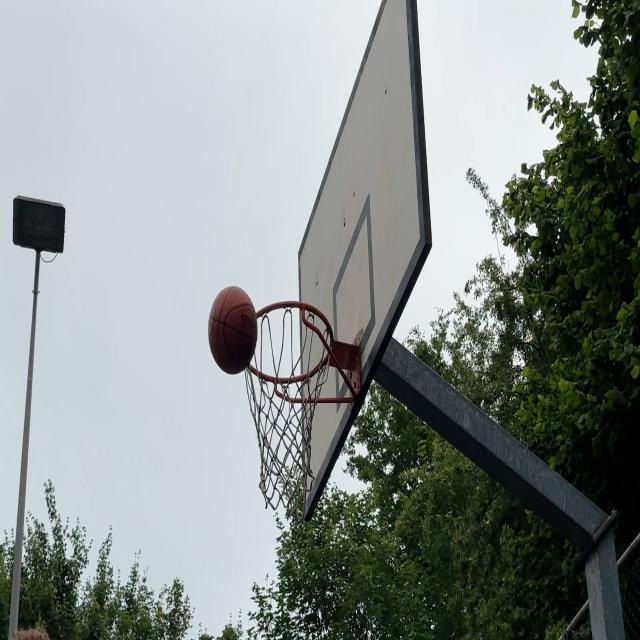Basketball: (208, 285, 258, 373)
